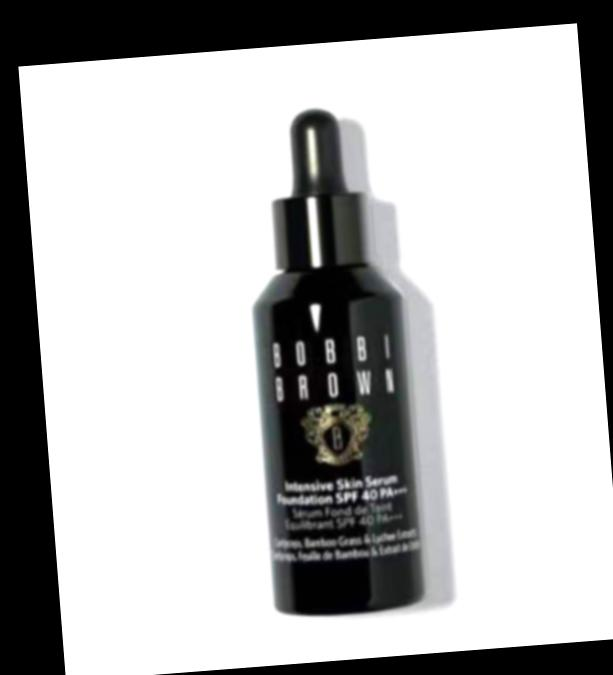cosmetic: (232, 103, 423, 609)
